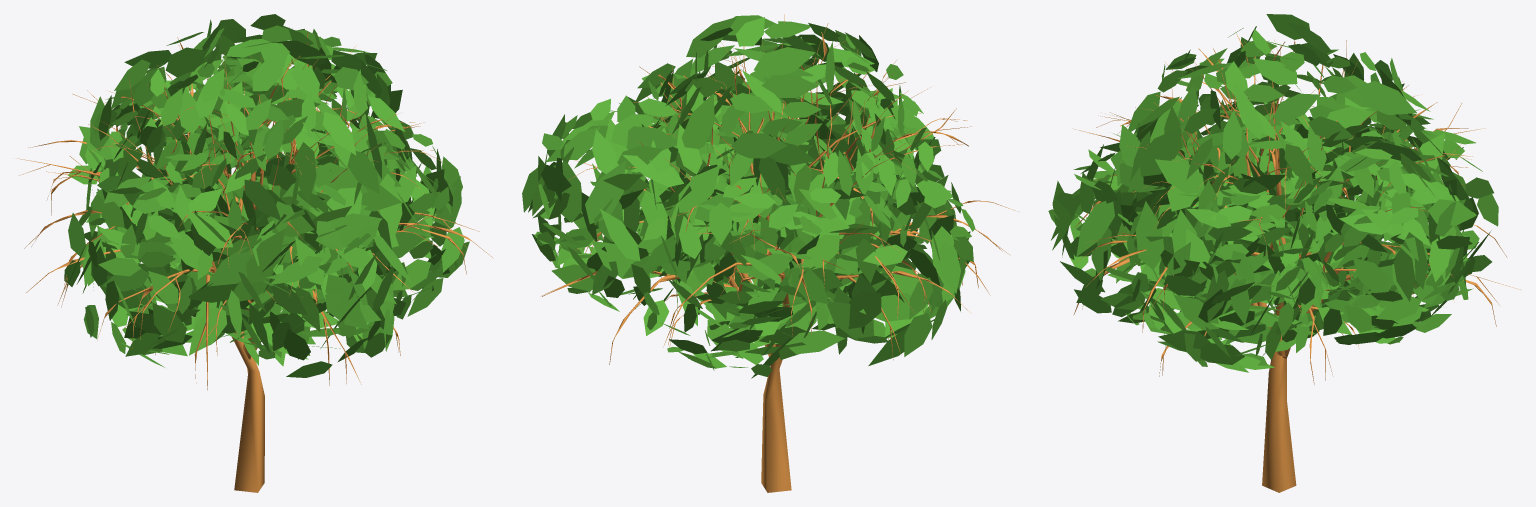
File: TreTreTreTre.fbx
3 views of the same model, side by side, from view 1: azimuth 30°, elevation 25°; view 2: azimuth 150°, elevation 25°; view 3: azimuth 270°, elevation 25° (orthographic).
Visible parts, largest first — view 1: Plane.001, tree; view 2: Plane.001, tree; view 3: Plane.001, tree.
Part boxes in pixels (x1,y1,x2,y2): Plane.001: [64, 14, 469, 377]; tree: [14, 32, 493, 492]; Plane.001: [522, 15, 975, 378]; tree: [541, 14, 1018, 492]; Plane.001: [1048, 14, 1498, 372]; tree: [1073, 31, 1521, 492].
Size of the model in its own units: 671 by 727 by 695.
